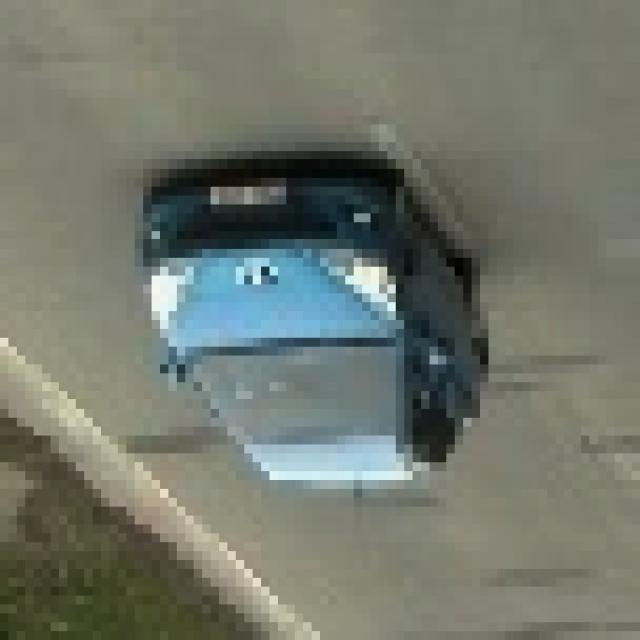blue: (155, 139, 489, 479)
